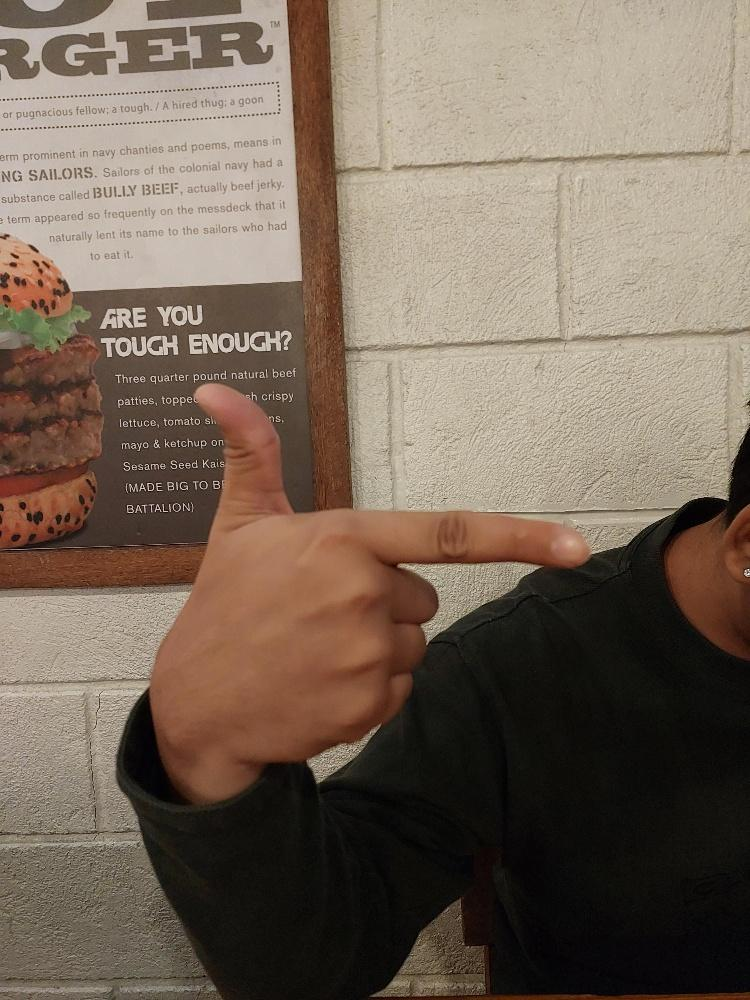g: (145, 380, 593, 768)
